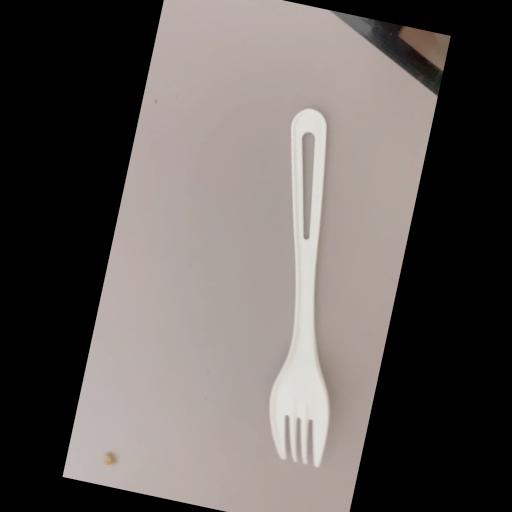utensil: (214, 106, 396, 472)
